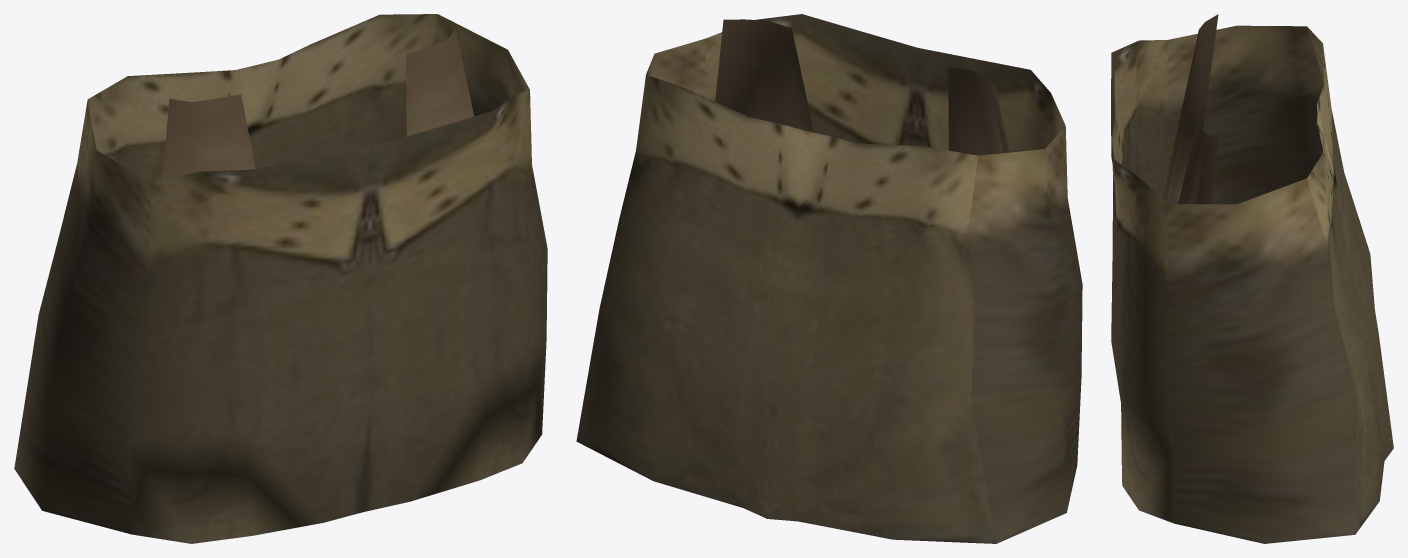
Rendered from bottom2.fbx.
3 views of the same model, side by side, from view 1: azimuth 30°, elevation 25°; view 2: azimuth 150°, elevation 25°; view 3: azimuth 270°, elevation 25° (orthographic). The views are drawn at different scales.
Visible parts, largest first — view 1: Mesh_001; view 2: Mesh_001; view 3: Mesh_001.
Part boxes in pixels (x1=…): Mesh_001: x1=14, y1=14, x2=547, y2=543; Mesh_001: x1=576, y1=14, x2=1082, y2=543; Mesh_001: x1=1111, y1=14, x2=1393, y2=543.
Size of the model in its own units: 8.93 by 7.31 by 5.03.
